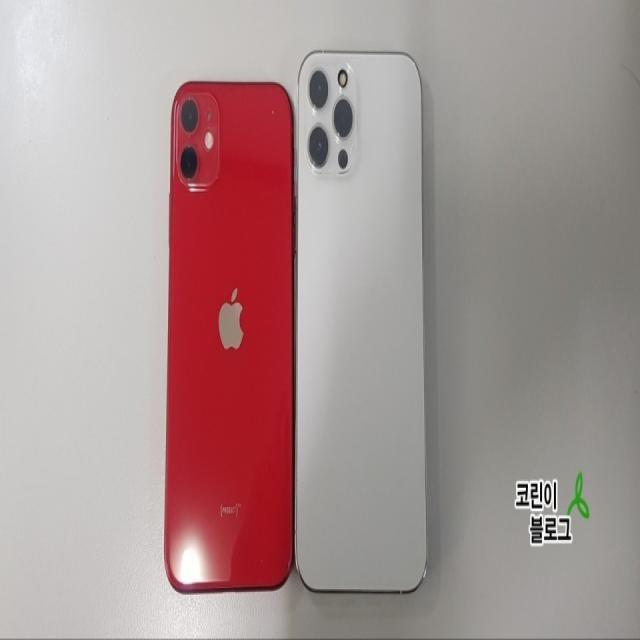phone: (296, 49, 426, 598), (163, 68, 294, 596)
